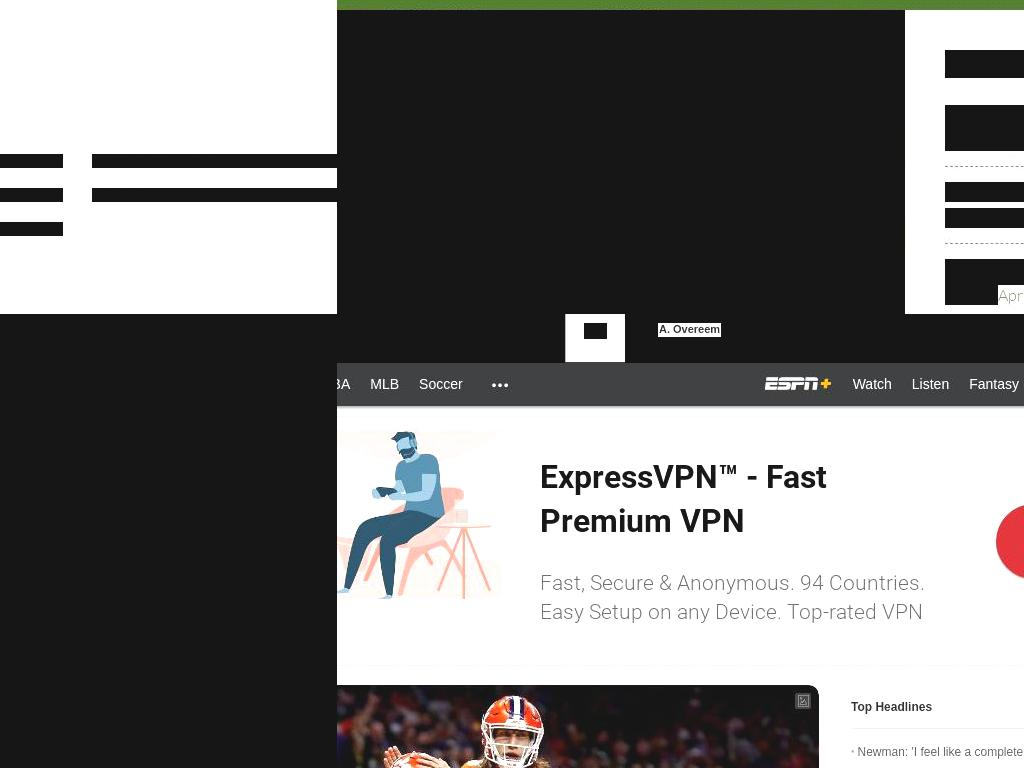button: (337, 314, 565, 363), (625, 314, 829, 363), (829, 314, 1024, 363), (857, 738, 1024, 768), (752, 363, 843, 407), (92, 154, 337, 168), (92, 188, 337, 202), (959, 363, 1024, 407), (409, 363, 473, 407), (842, 363, 902, 407), (901, 363, 960, 407), (472, 363, 527, 407), (360, 363, 410, 407), (337, 363, 361, 407), (0, 154, 63, 168), (0, 188, 63, 202), (0, 222, 63, 236)
heading: (0, 681, 253, 768), (851, 686, 1024, 729), (945, 50, 1024, 78), (584, 323, 607, 339)
iframe: (337, 417, 1024, 667)
image: (337, 10, 905, 314), (0, 314, 337, 768), (337, 686, 819, 768), (637, 322, 654, 338), (637, 342, 654, 358), (841, 322, 858, 338), (841, 342, 858, 358)
link: (945, 105, 1024, 151), (945, 259, 1024, 305), (945, 182, 1024, 202)
text: (351, 320, 549, 344), (762, 363, 833, 407), (945, 208, 1024, 228), (658, 323, 721, 337), (969, 377, 1020, 393), (862, 323, 920, 337), (419, 377, 464, 393), (658, 343, 707, 357), (852, 377, 892, 393), (911, 377, 949, 393), (775, 323, 817, 337), (998, 131, 1024, 151), (998, 285, 1024, 305), (781, 343, 817, 357), (984, 323, 1020, 337), (984, 343, 1020, 357), (370, 377, 400, 393), (862, 343, 894, 357), (351, 314, 445, 317), (795, 694, 811, 710), (337, 377, 351, 393), (889, 314, 941, 318), (686, 314, 737, 318), (637, 314, 687, 318), (841, 314, 890, 318), (776, 314, 817, 318), (980, 314, 1020, 318), (746, 314, 777, 318), (950, 314, 981, 318)
